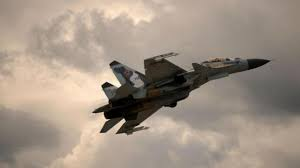fighter: (88, 49, 275, 136)
